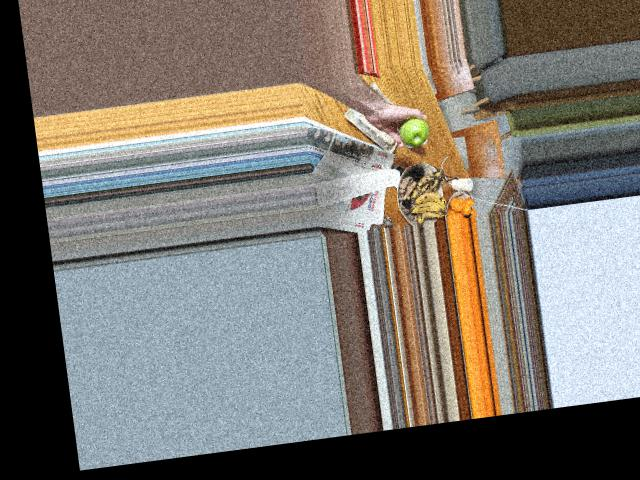apple: (396, 117, 431, 147)
